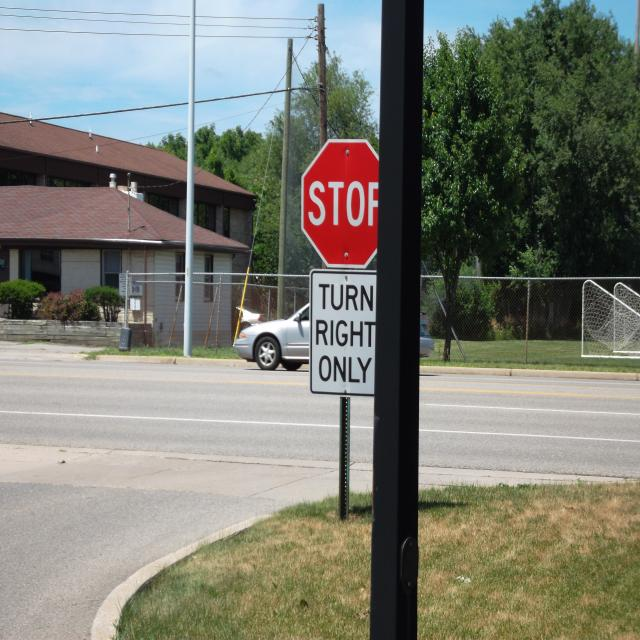regulatory: (310, 268, 378, 395)
stop: (298, 133, 386, 271)
